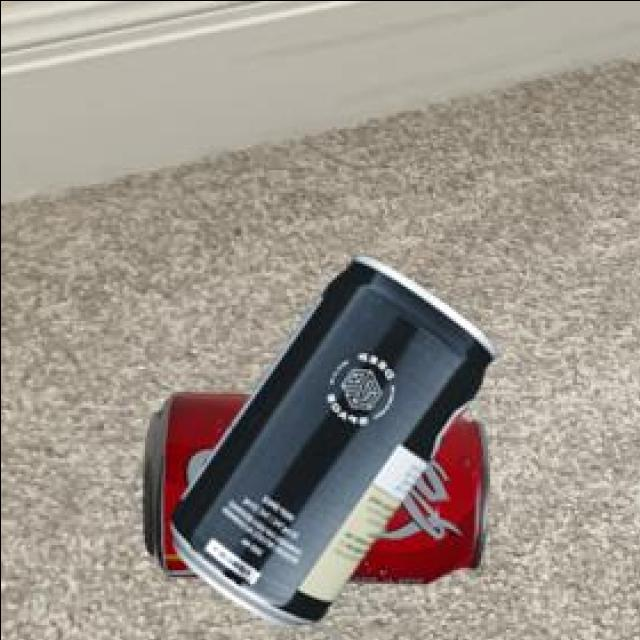logam: (173, 250, 499, 621), (145, 390, 493, 579)
